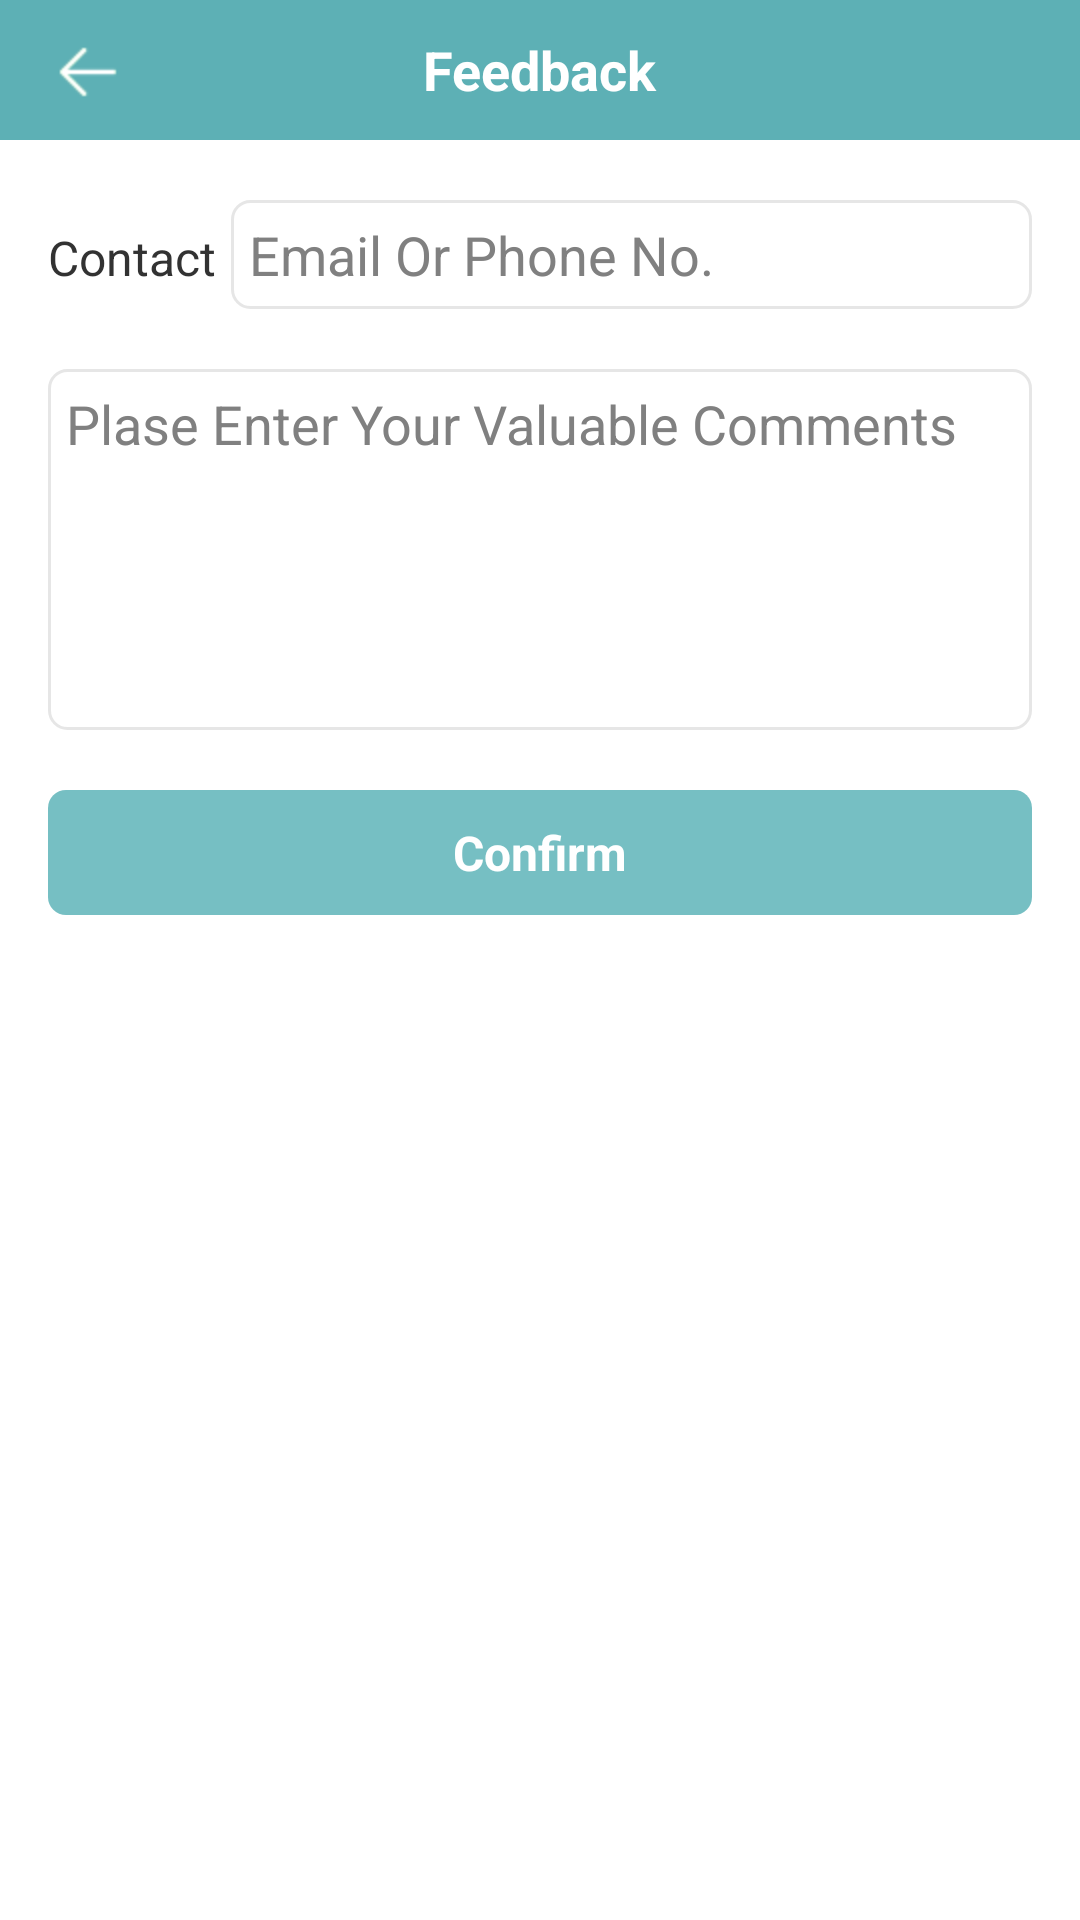

Named icons in this screenshot (1080px x 1920px) and their bounding boxes, (x1, y1, x2, y2):
lyy top back: (59, 47, 117, 97)
